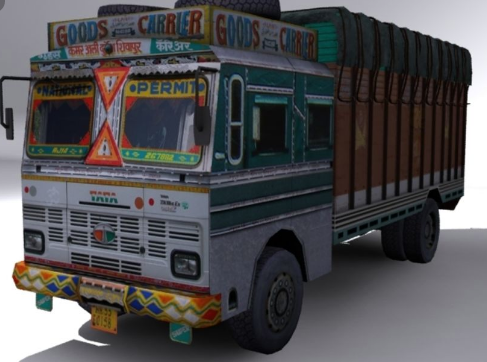truck: (1, 1, 475, 358)
